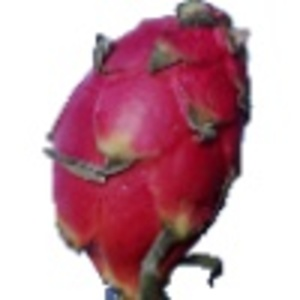pitaia: (46, 1, 254, 300)
